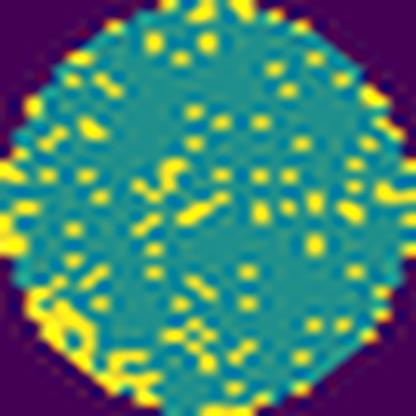Edge-Loc: (25, 274, 160, 408)
